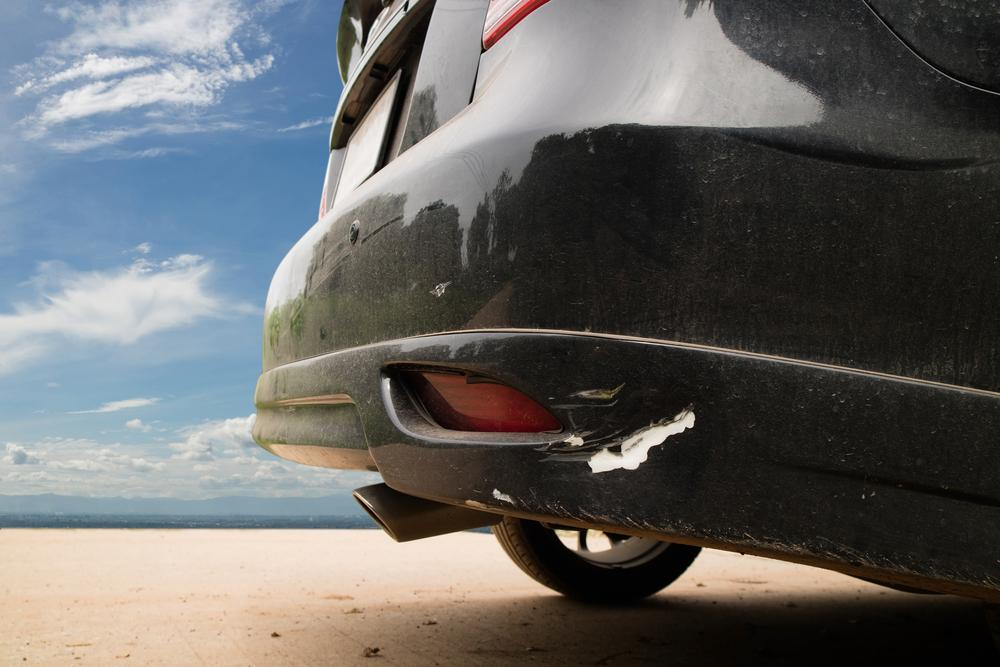scratch: (532, 376, 703, 480)
